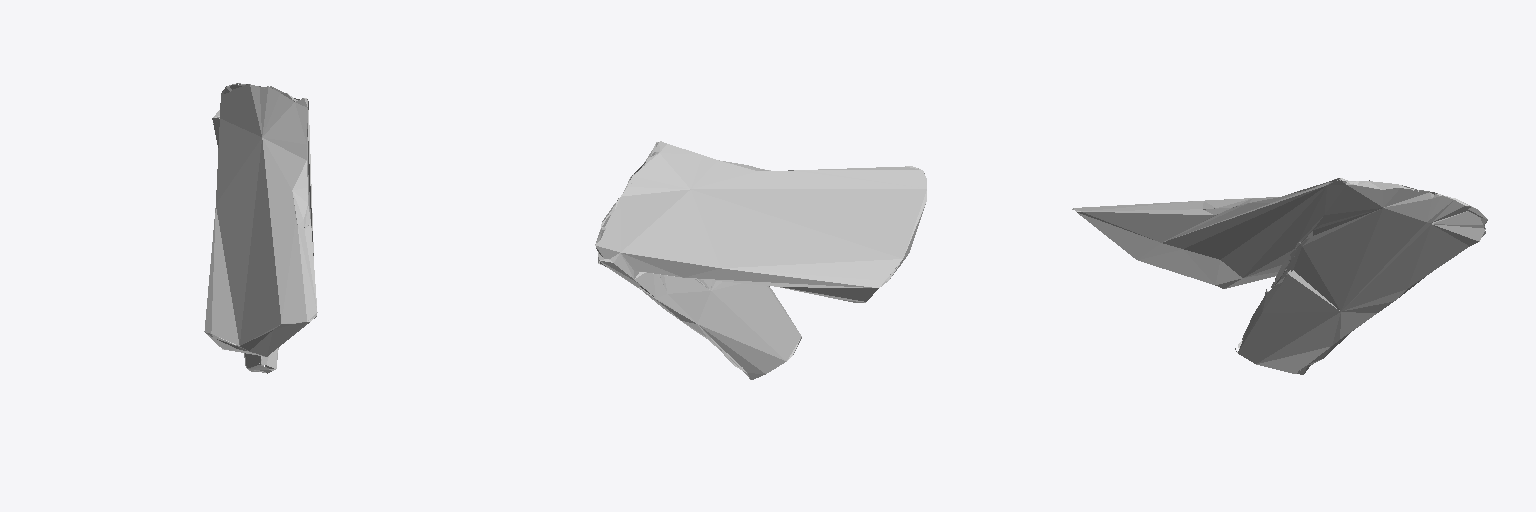
The model's file is FJ55_BP4463_FMA49013_Left_medial_pterygoid.obj.
The picture shows the model from 3 angles: view 1: azimuth 30°, elevation 25°; view 2: azimuth 150°, elevation 25°; view 3: azimuth 270°, elevation 25°; orthographic projection.
Visible parts, largest first — view 1: FJ55_BP4463_FMA49013_Left_medial_pterygoid; view 2: FJ55_BP4463_FMA49013_Left_medial_pterygoid; view 3: FJ55_BP4463_FMA49013_Left_medial_pterygoid.
Boxes of the visible parts, box(x1,y1,x2,y2) form: FJ55_BP4463_FMA49013_Left_medial_pterygoid: box(204, 83, 317, 373); FJ55_BP4463_FMA49013_Left_medial_pterygoid: box(595, 141, 926, 379); FJ55_BP4463_FMA49013_Left_medial_pterygoid: box(1072, 178, 1487, 374).
Size of the model in its own units: 21.67 by 29.57 by 47.66.